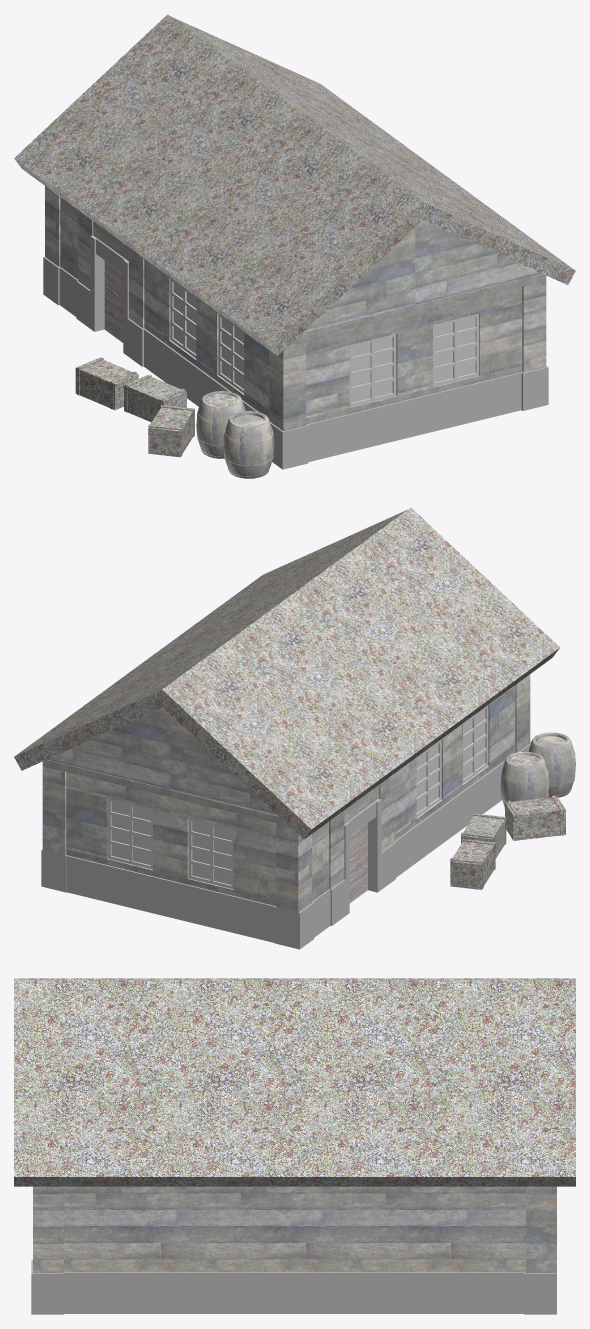
The model's file is easterbunnyshouse.gltf.
3 views of the same model, one above another, from view 1: azimuth 30°, elevation 25°; view 2: azimuth 150°, elevation 25°; view 3: azimuth 270°, elevation 25° (orthographic). The views are drawn at different scales.
Visible parts, largest first — view 1: house; view 2: house; view 3: house.
Boxes of the visible parts, <box> form: house: <box>14,14,575,478</box>; house: <box>14,507,575,949</box>; house: <box>14,978,575,1314</box>.
Bounding box in the file's own units: 25.88 × 16.15 × 31.
